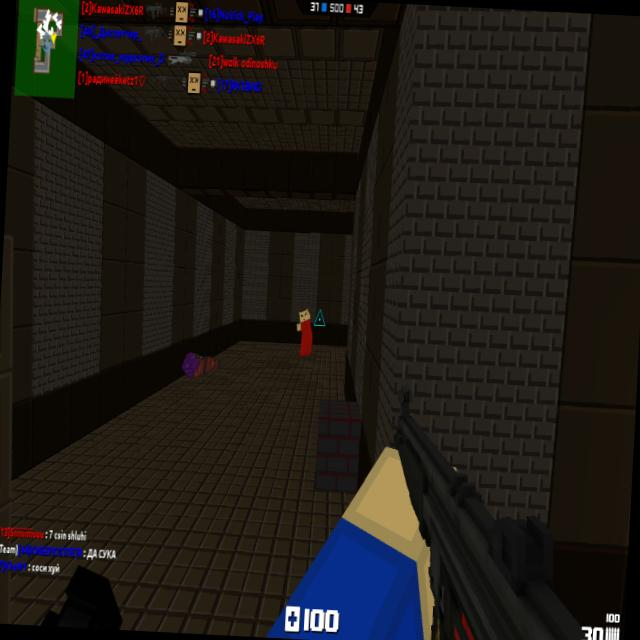enemy: (294, 304, 315, 358)
